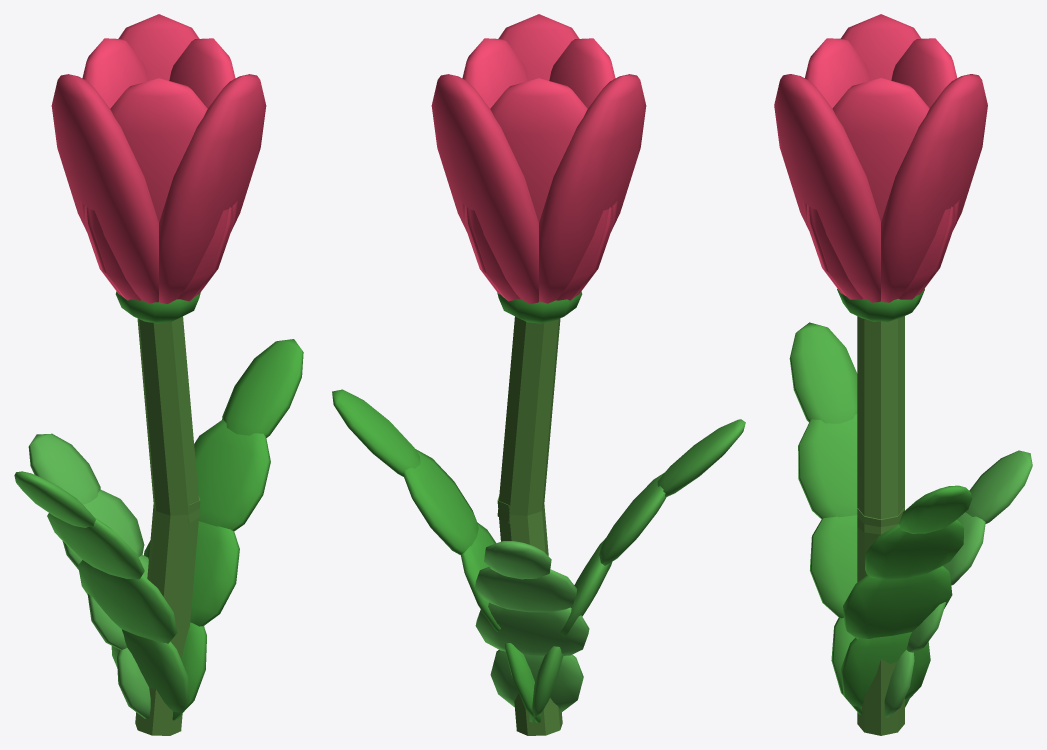
The model's file is Planta_Tulip.fbx.
3 views of the same model, side by side, from view 1: azimuth 30°, elevation 25°; view 2: azimuth 150°, elevation 25°; view 3: azimuth 270°, elevation 25° (orthographic).
Parts seen in each view (by area): view 1: Corpo_Tulip, Produto_Tulip; view 2: Produto_Tulip, Corpo_Tulip; view 3: Corpo_Tulip, Produto_Tulip.
Boxes of the visible parts, left/top/right/bottom form: Corpo_Tulip: left=14, top=291, right=303, bottom=735; Produto_Tulip: left=51, top=14, right=266, bottom=303; Produto_Tulip: left=431, top=14, right=646, bottom=303; Corpo_Tulip: left=332, top=291, right=745, bottom=735; Corpo_Tulip: left=789, top=288, right=1032, bottom=735; Produto_Tulip: left=774, top=14, right=987, bottom=302.
Bounding box in the file's own units: 1.16 × 2.2 × 0.7624.
Materials: 1 (1 with a texture image).
